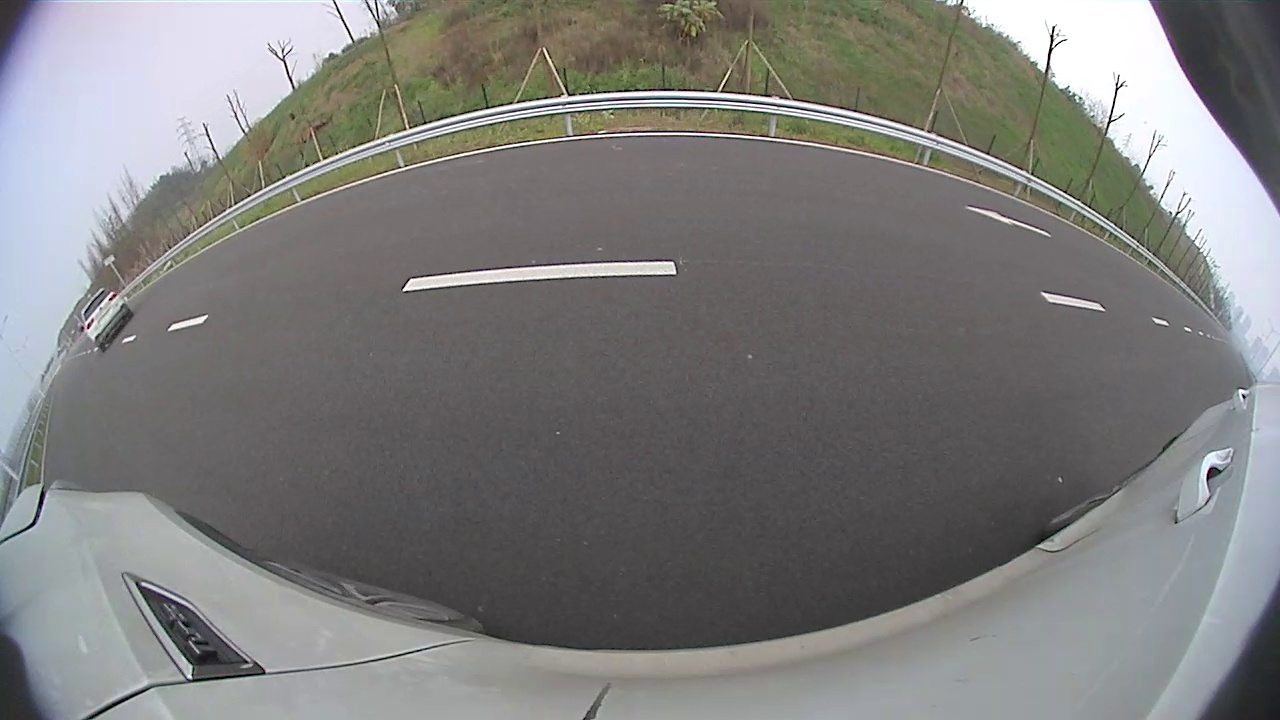car: (80, 288, 134, 352)
